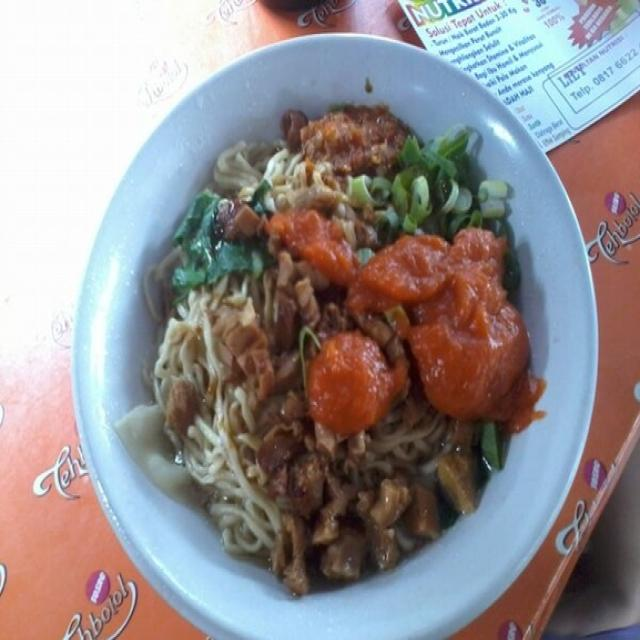面条主食: (70, 41, 605, 612)
